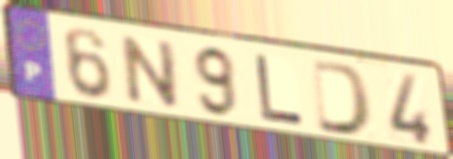4: (385, 70, 435, 147)
6: (60, 26, 113, 103)
9: (190, 43, 241, 120)
D: (309, 57, 376, 140)
L: (253, 52, 307, 130)
N: (120, 33, 182, 111)
